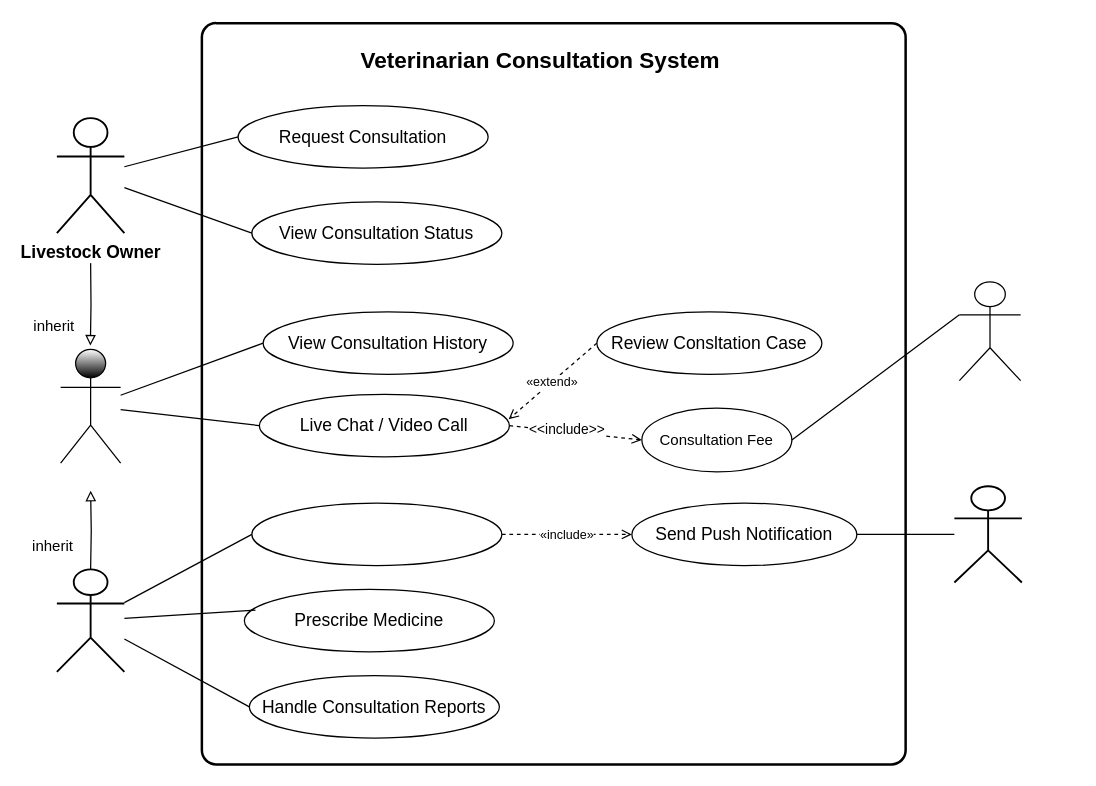
Some shapes in this 1096 by 786 pixel diagram are drawn without their labels. Each missing label, with the centre of its shape:
"Notification Service" belongs at (x=987, y=534).
"Payment Gatway" belongs at (x=989, y=331).
"Send Recommendation" belongs at (x=376, y=534).
"User" belongs at (x=90, y=405).
"Veterinarian" belongs at (x=90, y=620).
